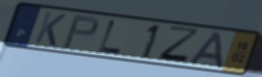1: (141, 23, 163, 60)
A: (187, 30, 225, 70)
K: (32, 10, 69, 48)
L: (96, 18, 124, 55)
P: (60, 14, 101, 50)
Z: (156, 24, 203, 66)
